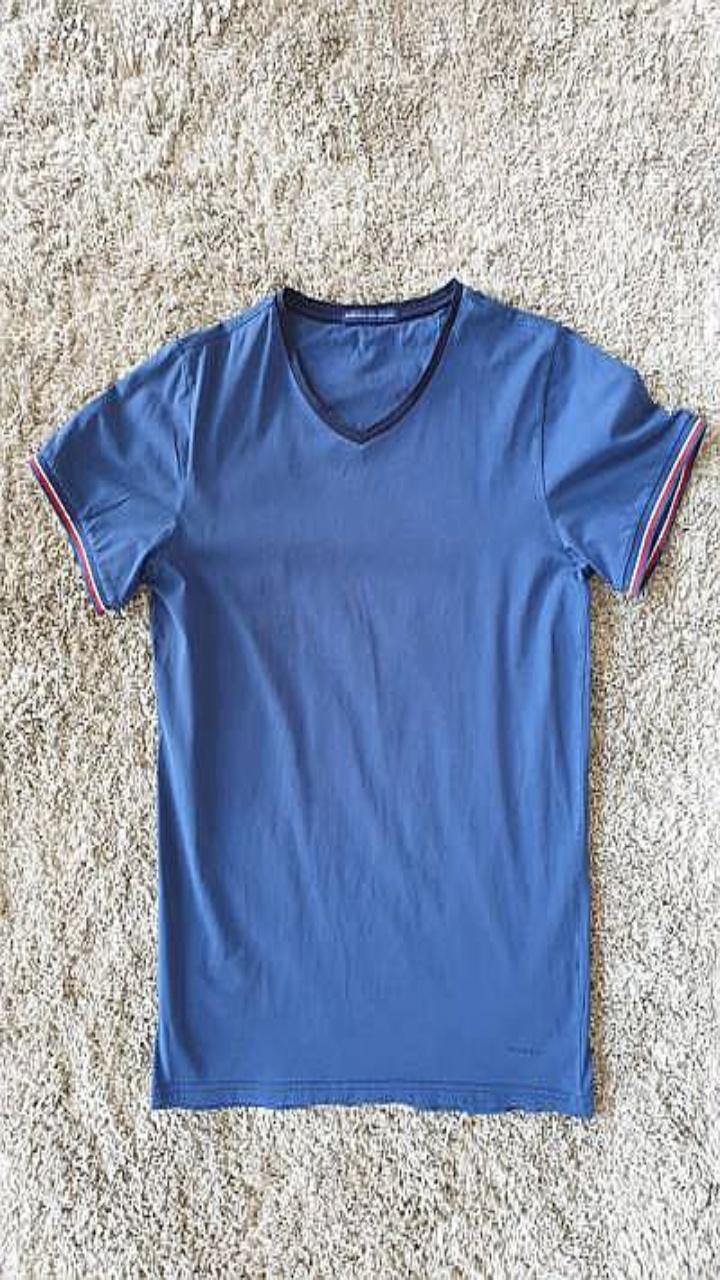T-Shirt: (28, 278, 704, 1116)
